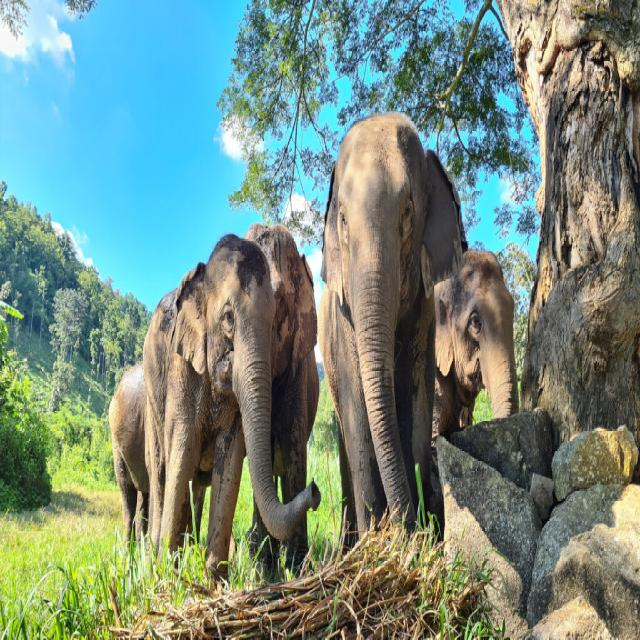Elephant: (135, 249, 326, 584), (317, 105, 458, 549), (232, 206, 319, 584), (426, 226, 532, 435)
